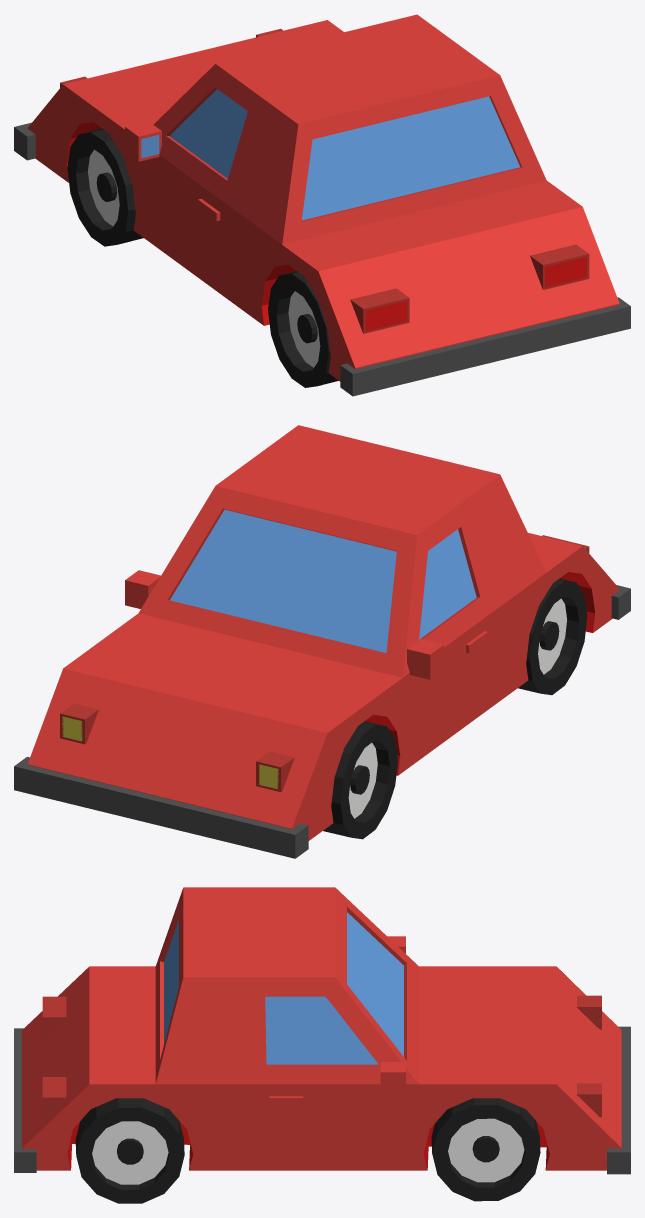
Rendered from player_car_1.glb.
The picture shows the model from 3 angles, top to bottom: view 1: azimuth 30°, elevation 25°; view 2: azimuth 150°, elevation 25°; view 3: azimuth 270°, elevation 25°; orthographic projection. The views are drawn at different scales.
Visible parts, largest first — view 1: Body, WheelFrontLeft, WheelRearLeft; view 2: Body, WheelFrontLeft, WheelRearLeft; view 3: Body, WheelRearRight, WheelFrontRight.
Boxes of the visible parts, left/top/right/bottom form: Body: left=14, top=14, right=630, bottom=396; WheelFrontLeft: left=67, top=128, right=143, bottom=246; WheelRearLeft: left=268, top=271, right=338, bottom=387; Body: left=14, top=425, right=630, bottom=858; WheelFrontLeft: left=323, top=721, right=397, bottom=839; WheelRearLeft: left=518, top=578, right=587, bottom=695; Body: left=14, top=887, right=630, bottom=1174; WheelRearRight: left=75, top=1098, right=184, bottom=1203; WheelFrontRight: left=431, top=1098, right=540, bottom=1201.
Size of the model in its own units: 3.02 by 2.18 by 5.78.
